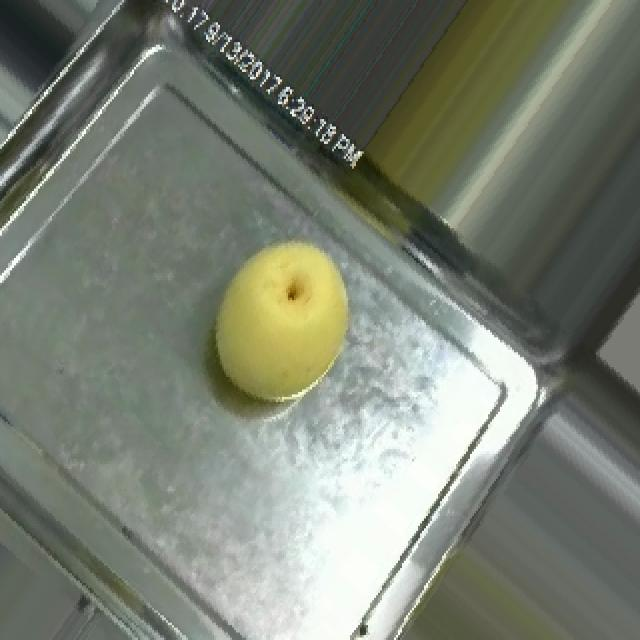Fruit: (190, 218, 380, 427)
